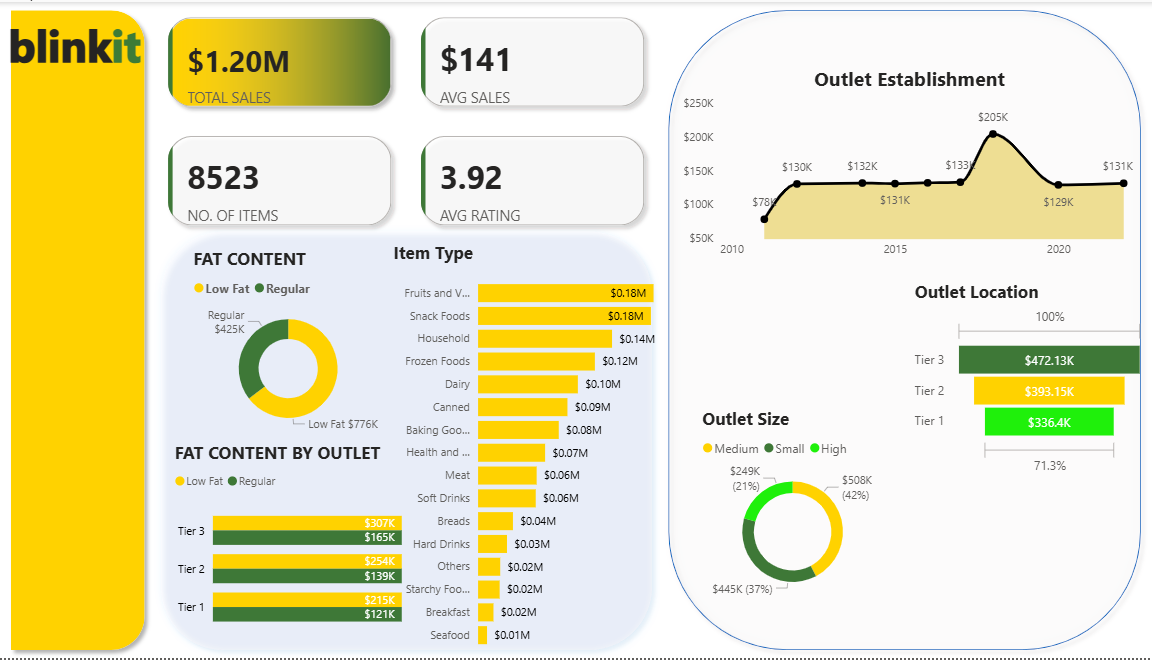

The dashboard page shown, as its layout file describes it:
{"tool":"powerbi","page":{"name":"Page 1","canvas":[1280,720],"ordinal":0},"visuals":[{"type":"shape","box":[9.6,0,164.7,720.4],"z":0},{"type":"textbox","box":[11,9.6,163.3,76.8],"z":1000},{"type":"cardVisual","fields":{"Data":["BlinkIT Grocery Data.Total Sales","BlinkIT Grocery Data.Avg Sales","BlinkIT Grocery Data.No of Items","BlinkIT Grocery Data.Avg Rating"]},"box":[174.3,0,557.1,262.1],"z":2000},{"type":"shape","box":[174.3,242.9,557.1,477.5],"z":3000},{"type":"donutChart","title":"FAT CONTENT","fields":{"Y":["Sum(BlinkIT Grocery Data.Sales)"],"Category":["BlinkIT Grocery Data.Item Fat Content"]},"box":[214.1,269,218.2,212.7],"z":4000},{"type":"clusteredBarChart","title":"FAT CONTENT BY OUTLET","fields":{"Category":["BlinkIT Grocery Data.Outlet Location Type"],"Series":["BlinkIT Grocery Data.Item Fat Content"],"Y":["Sum(BlinkIT Grocery Data.Sales)"]},"box":[193.5,481.6,259.3,222.3],"z":5000},{"type":"shape","box":[731.4,0,536.5,720.4],"z":6000},{"type":"clusteredBarChart","title":" Item Type","fields":{"Category":["BlinkIT Grocery Data.Item Type"],"Y":["Sum(BlinkIT Grocery Data.Sales)"]},"box":[433.6,262.1,338.9,458.3],"z":7000},{"type":"donutChart","title":" Outlet Size","fields":{"Category":["BlinkIT Grocery Data.Outlet Size"],"Y":["Sum(BlinkIT Grocery Data.Sales)"]},"box":[772.6,444.6,208.6,219.6],"z":8000},{"type":"funnel","title":" Outlet Location","fields":{"Category":["BlinkIT Grocery Data.Outlet Location Type"],"Y":["Sum(BlinkIT Grocery Data.Sales)"]},"box":[1005.8,304.6,262.1,219.6],"z":9000},{"type":"lineChart","title":"Outlet Establishment ","fields":{"Y":["BlinkIT Grocery Data.Total Sales"],"Category":["BlinkIT Grocery Data.Outlet Establishment Year"]},"box":[752,68.6,506.3,220.9],"z":9001}]}

Visuals, with their boxes in screenshot pixels (x1, y1, x2, y2), scaled from the page's 1280x720 canvas onto the 1152x660 screenshot:
shape: box(9, 0, 157, 659)
textbox: box(10, 9, 157, 79)
cardVisual - BlinkIT Grocery Data.Total Sales x BlinkIT Grocery Data.Avg Sales: box(157, 0, 658, 240)
shape: box(157, 223, 658, 659)
"FAT CONTENT" donutChart: box(193, 247, 389, 442)
"FAT CONTENT BY OUTLET" clusteredBarChart: box(174, 441, 408, 645)
shape: box(658, 0, 1141, 659)
" Item Type" clusteredBarChart: box(390, 240, 695, 659)
" Outlet Size" donutChart: box(695, 408, 883, 609)
" Outlet Location" funnel: box(905, 279, 1141, 481)
"Outlet Establishment " lineChart: box(677, 63, 1132, 265)
